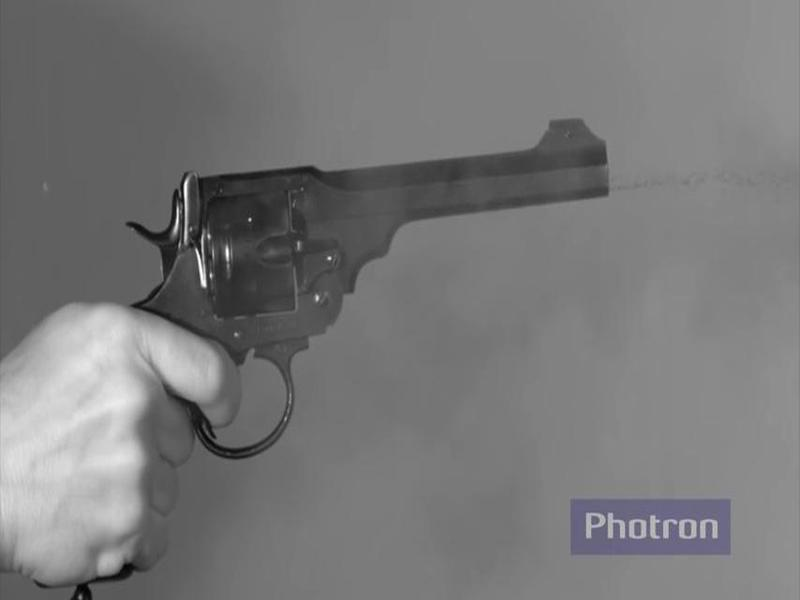Revolver: (98, 99, 617, 465)
